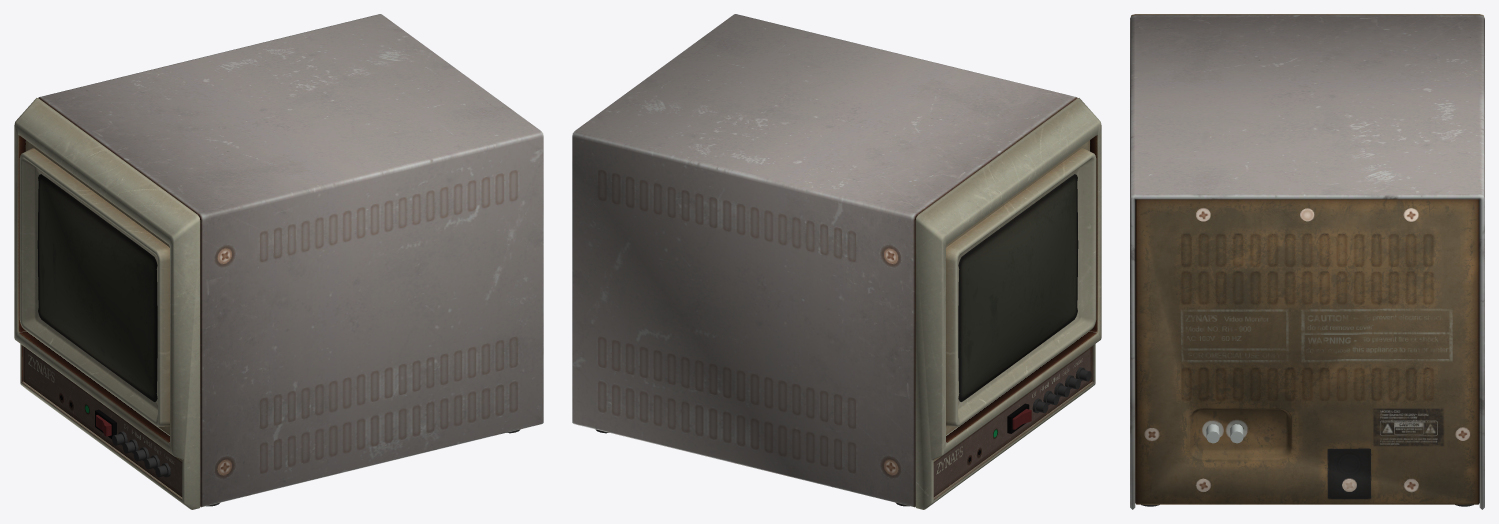
The model's file is monitor0_reference.fbx.
The picture shows the model from 3 angles, left to right: view 1: azimuth 30°, elevation 25°; view 2: azimuth 150°, elevation 25°; view 3: azimuth 270°, elevation 25°; orthographic projection. The views are drawn at different scales.
Parts seen in each view (by area): view 1: monitor0_reference; view 2: monitor0_reference; view 3: monitor0_reference.
Boxes of the visible parts, x1=… form: monitor0_reference: x1=14, y1=14, x2=543, y2=509; monitor0_reference: x1=572, y1=14, x2=1101, y2=509; monitor0_reference: x1=1130, y1=14, x2=1484, y2=509.
Size of the model in its own units: 61.05 by 45.14 by 45.38.
